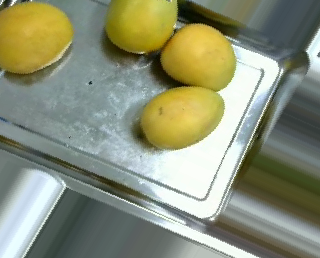Mango: (0, 2, 74, 75), (141, 87, 227, 149), (159, 23, 235, 91), (105, 0, 177, 53)
